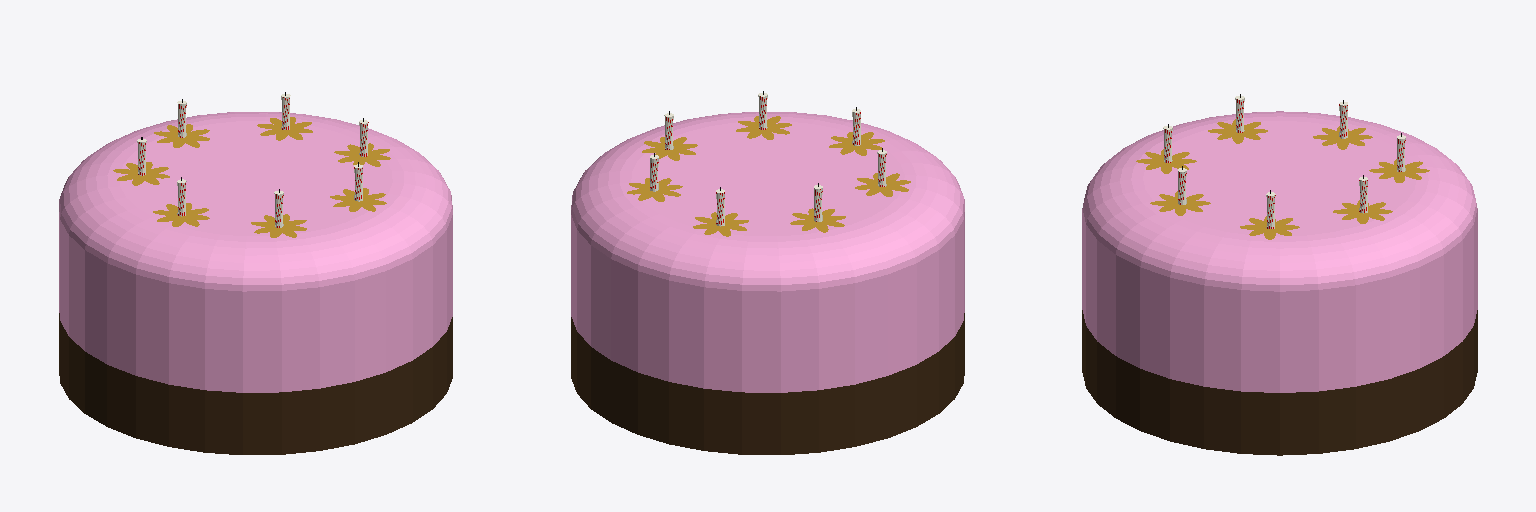
3 renders of one model, left to right at view 1: azimuth 30°, elevation 25°; view 2: azimuth 150°, elevation 25°; view 3: azimuth 270°, elevation 25°, orthographic.
Parts seen in each view (by area): view 1: Cylinder.003; view 2: Cylinder.003; view 3: Cylinder.003.
Part boxes in pixels (x1,y1,x2,y2): Cylinder.003: (59, 92, 452, 454); Cylinder.003: (571, 91, 964, 454); Cylinder.003: (1082, 94, 1477, 455).
Size of the model in its own units: 0.0712 by 0.0462 by 0.0712.
6 materials, 6 textured.